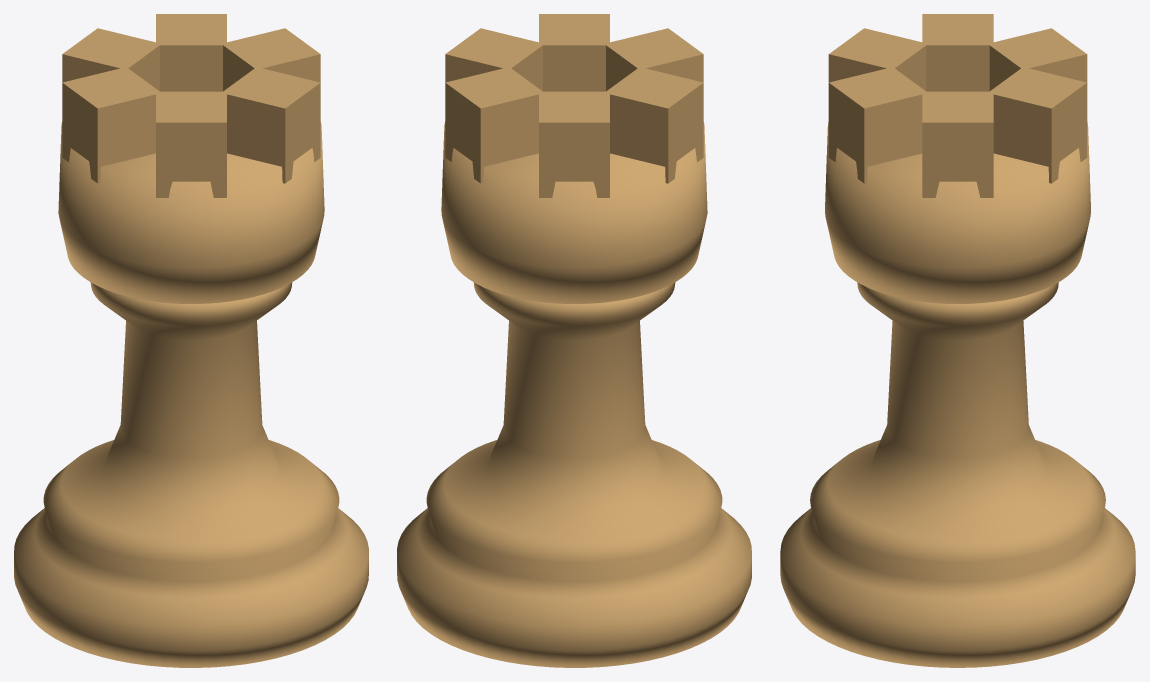
File: rook.glb
3 renders of one model, left to right at view 1: azimuth 30°, elevation 25°; view 2: azimuth 150°, elevation 25°; view 3: azimuth 270°, elevation 25°, orthographic.
Size of the model in its own units: 1.2 by 1.97 by 1.2.
